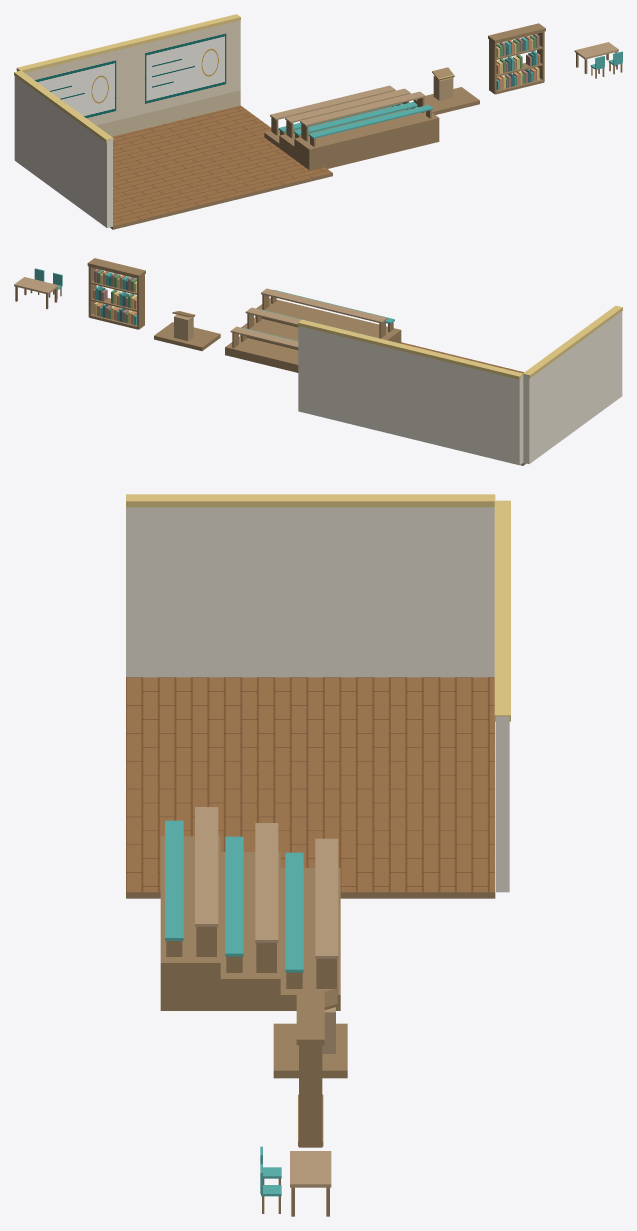
File: kit-11-interior-universitas.glb
The picture shows the model from 3 angles, top to bottom: view 1: azimuth 30°, elevation 25°; view 2: azimuth 150°, elevation 25°; view 3: azimuth 270°, elevation 25°; orthographic projection. The views are drawn at different scales.
Parts seen in each view (by area): view 1: UnivIn_RuangKuliah, UnivIn_BangkuTingkat, UnivIn_RakBuku, UnivIn_Podium, UnivIn_MejaBelajar; view 2: UnivIn_RuangKuliah, UnivIn_BangkuTingkat, UnivIn_RakBuku, UnivIn_Podium, UnivIn_MejaBelajar; view 3: UnivIn_RuangKuliah, UnivIn_BangkuTingkat, UnivIn_RakBuku, UnivIn_Podium, UnivIn_MejaBelajar.
Boxes of the visible parts, x1,y1,x2,y2 form: UnivIn_RuangKuliah: [14, 14, 332, 229]; UnivIn_BangkuTingkat: [264, 85, 439, 170]; UnivIn_RakBuku: [488, 23, 545, 94]; UnivIn_Podium: [413, 67, 479, 114]; UnivIn_MejaBelajar: [574, 42, 622, 78]; UnivIn_RuangKuliah: [298, 305, 622, 465]; UnivIn_BangkuTingkat: [225, 288, 401, 372]; UnivIn_RakBuku: [87, 258, 145, 329]; UnivIn_Podium: [154, 311, 220, 350]; UnivIn_MejaBelajar: [14, 268, 62, 309]; UnivIn_RuangKuliah: [126, 494, 510, 898]; UnivIn_BangkuTingkat: [160, 807, 340, 1010]; UnivIn_RakBuku: [296, 989, 324, 1147]; UnivIn_Podium: [273, 988, 347, 1078]; UnivIn_MejaBelajar: [260, 1146, 331, 1216].
Size of the model in its own units: 27.68 by 4.38 by 8.34.
13 materials, 2 textured.
